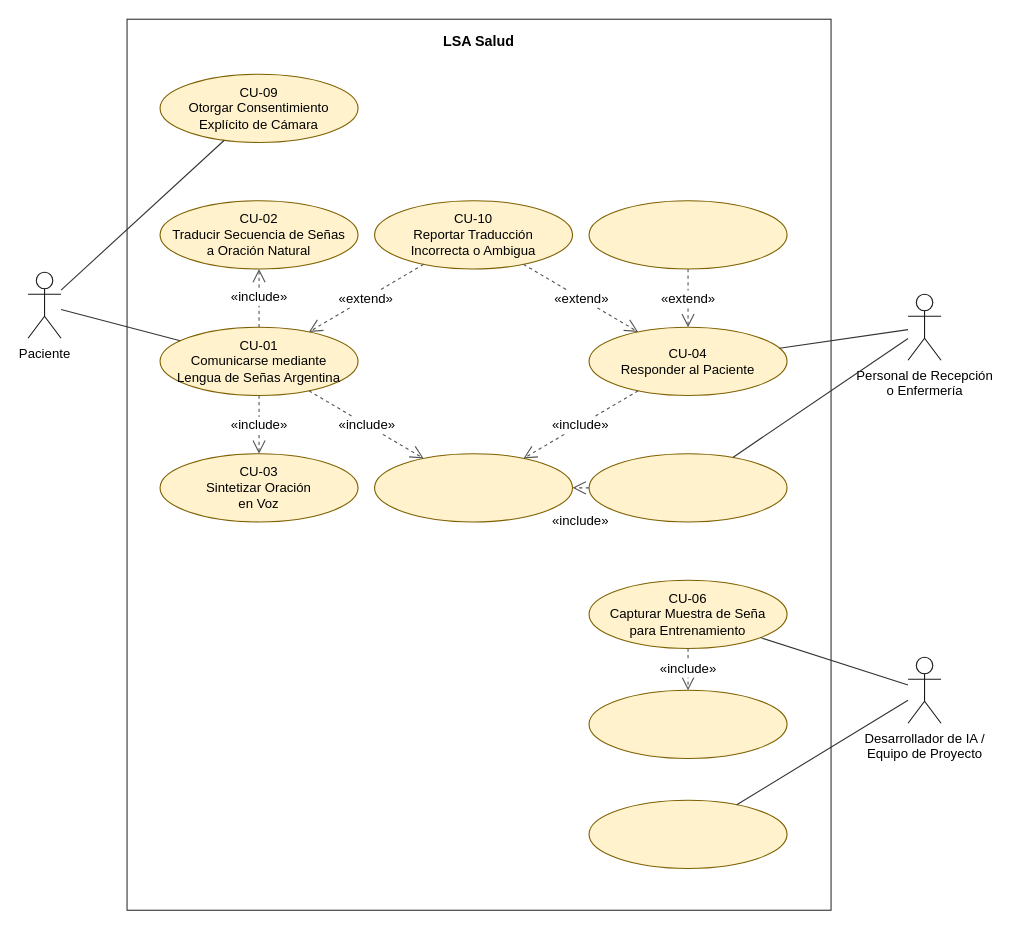
The diagram is 1012 pixels wide and 930 high, and some of its shapes have lost their labels. Each missing label, with the centre of its shape:
"CU-05 Dictar Respuesta por Voz" belongs at (687,234).
"CU-07 Gestionar Vocabulario de Señas" belongs at (687,723).
"CU-08 Entrenar el Modelo de Reconocimiento" belongs at (687,833).
"CU-11 Registrar Evento de Auditoría" belongs at (473,487).
"CU-12 Finalizar Atención y Preparar la Estación" belongs at (687,487).
